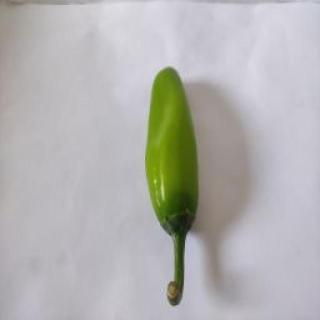Cabai Hijau: (142, 63, 206, 311)
